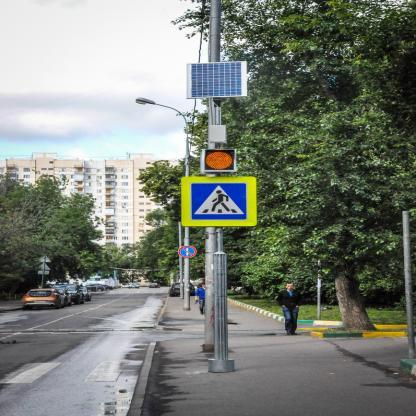road_sign: (181, 176, 256, 226), (178, 245, 197, 258)
